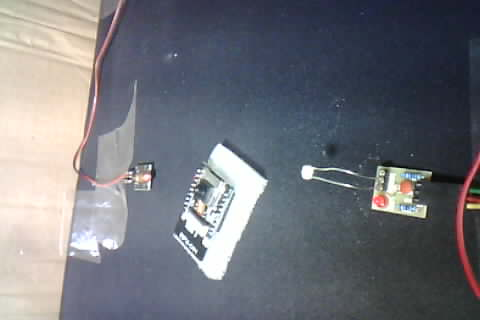esp32: (171, 143, 253, 273)
